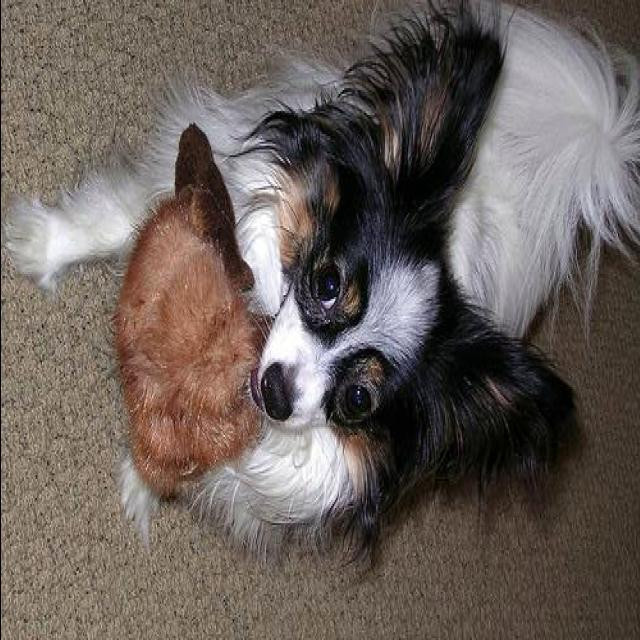papillon: (9, 12, 640, 540)
